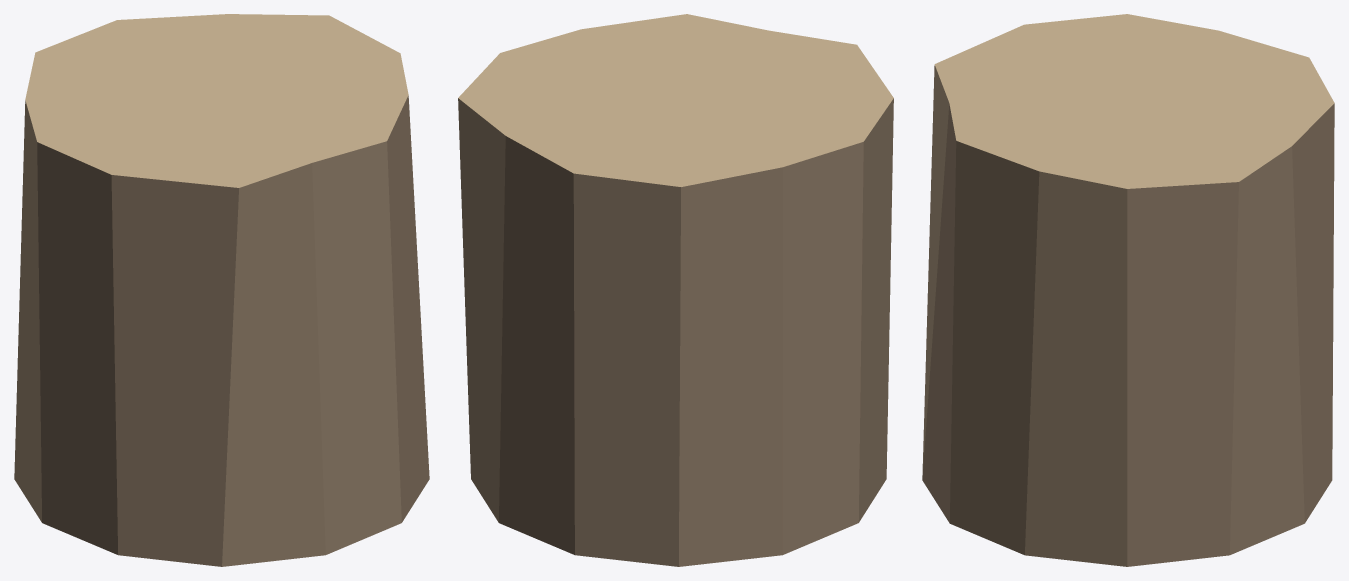
Rendered from stump.glb.
3 renders of one model, left to right at view 1: azimuth 30°, elevation 25°; view 2: azimuth 150°, elevation 25°; view 3: azimuth 270°, elevation 25°, orthographic.
Parts seen in each view (by area): view 1: stump; view 2: stump; view 3: stump.
Part boxes in pixels (x1=…): stump: x1=14, y1=14, x2=429, y2=566; stump: x1=458, y1=14, x2=893, y2=566; stump: x1=922, y1=14, x2=1334, y2=566.
Size of the model in its own units: 0.6488 by 0.65 by 0.6437.
